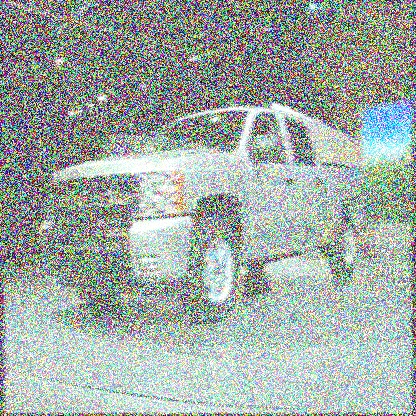Vehicle: (40, 107, 366, 327)
